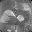people: (4, 9, 15, 17), (0, 16, 11, 23), (17, 15, 25, 22)
